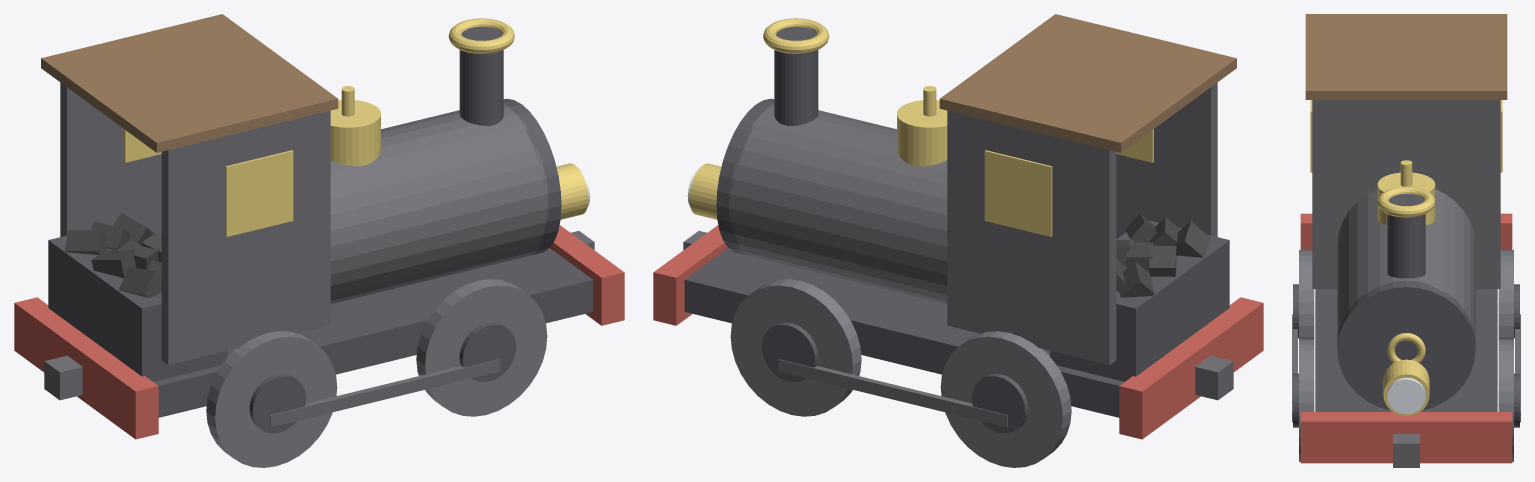
The model's file is mine_locomotive.glb.
The picture shows the model from 3 angles, left to right: view 1: azimuth 30°, elevation 25°; view 2: azimuth 150°, elevation 25°; view 3: azimuth 270°, elevation 25°; orthographic projection. The views are drawn at different scales.
Parts seen in each view (by area): view 1: Cube.007, Cylinder.008, Cube.010, Cube, Cylinder, Cylinder.004, Cube.008, Cube.013, Cube.001, Cube.011, Cylinder.010, Cube.005 (+13 smaller); view 2: Cube.008, Cylinder.008, Cube.010, Cube, Cylinder.002, Cylinder.006, Cube.007, Cube.013, Cube.001, Cube.012, Cylinder.010, Cube.006 (+13 smaller); view 3: Cube.009, Cube.010, Cylinder.009, Cube.003, Cylinder.008, Cube, Cylinder.010, Cylinder, Cylinder.002, Cylinder.004, Cylinder.006, Cylinder.013 (+15 smaller).
Part boxes in pixels (x1=…): Cube.007: x1=161, y1=110, x2=330, y2=365; Cylinder.008: x1=330, y1=104, x2=548, y2=303; Cube.010: x1=41, y1=14, x2=338, y2=152; Cube: x1=153, y1=248, x2=593, y2=417; Cylinder: x1=206, y1=331, x2=337, y2=467; Cylinder.004: x1=416, y1=279, x2=547, y2=416; Cube.008: x1=60, y1=82, x2=161, y2=236; Cube.013: x1=48, y1=219, x2=227, y2=381; Cube.001: x1=14, y1=297, x2=158, y2=439; Cube.011: x1=225, y1=150, x2=293, y2=236; Cylinder.010: x1=459, y1=26, x2=503, y2=125; Cube.005: x1=270, y1=359, x2=499, y2=427; Cube.008: x1=947, y1=110, x2=1116, y2=365; Cylinder.008: x1=729, y1=104, x2=947, y2=303; Cube.010: x1=939, y1=14, x2=1236, y2=152; Cube: x1=684, y1=248, x2=1124, y2=417; Cylinder.002: x1=940, y1=331, x2=1071, y2=467; Cylinder.006: x1=730, y1=279, x2=861, y2=416; Cube.007: x1=1116, y1=82, x2=1217, y2=238; Cube.013: x1=1050, y1=220, x2=1229, y2=381; Cube.001: x1=1119, y1=297, x2=1263, y2=439; Cube.012: x1=984, y1=150, x2=1052, y2=236; Cylinder.010: x1=774, y1=26, x2=818, y2=125; Cube.006: x1=778, y1=359, x2=1007, y2=427; Cube.009: x1=1318, y1=100, x2=1494, y2=289; Cube.010: x1=1305, y1=14, x2=1507, y2=99; Cylinder.009: x1=1337, y1=280, x2=1475, y2=410; Cube.003: x1=1300, y1=412, x2=1512, y2=463; Cylinder.008: x1=1337, y1=189, x2=1475, y2=342; Cube: x1=1315, y1=289, x2=1497, y2=411; Cylinder.010: x1=1387, y1=193, x2=1425, y2=278; Cylinder: x1=1299, y1=250, x2=1314, y2=339; Cylinder.002: x1=1498, y1=250, x2=1513, y2=339; Cylinder.004: x1=1299, y1=339, x2=1314, y2=461; Cylinder.006: x1=1498, y1=339, x2=1513, y2=461; Cylinder.013: x1=1383, y1=359, x2=1429, y2=415.
Bounding box in the file's own units: 2.8 × 1.75 × 1.19.
